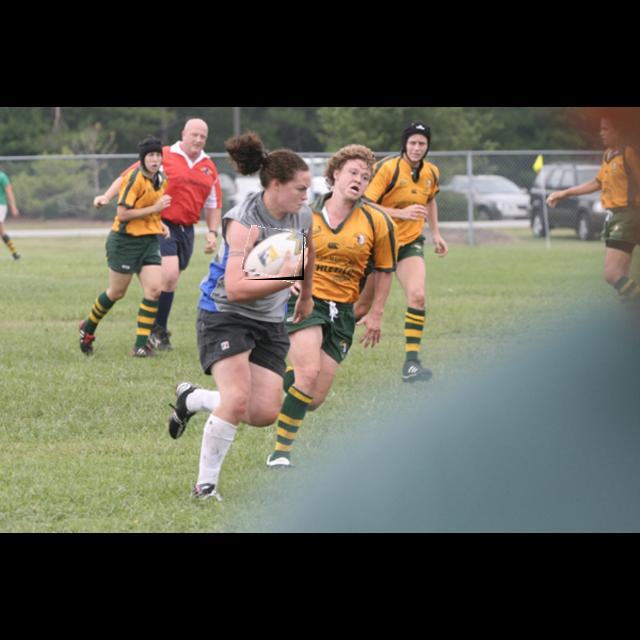Football: (244, 228, 304, 280)
